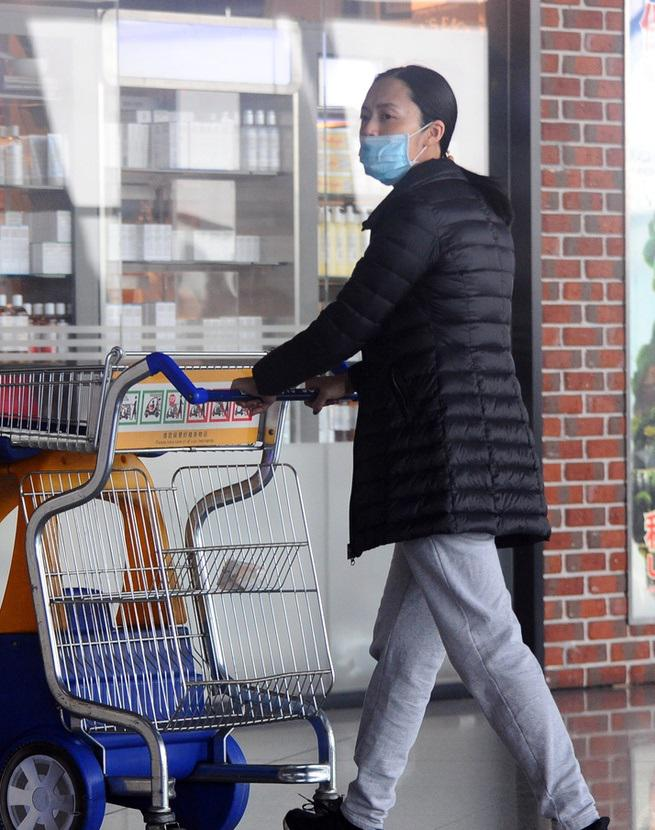WRONG: (359, 88, 415, 183)
